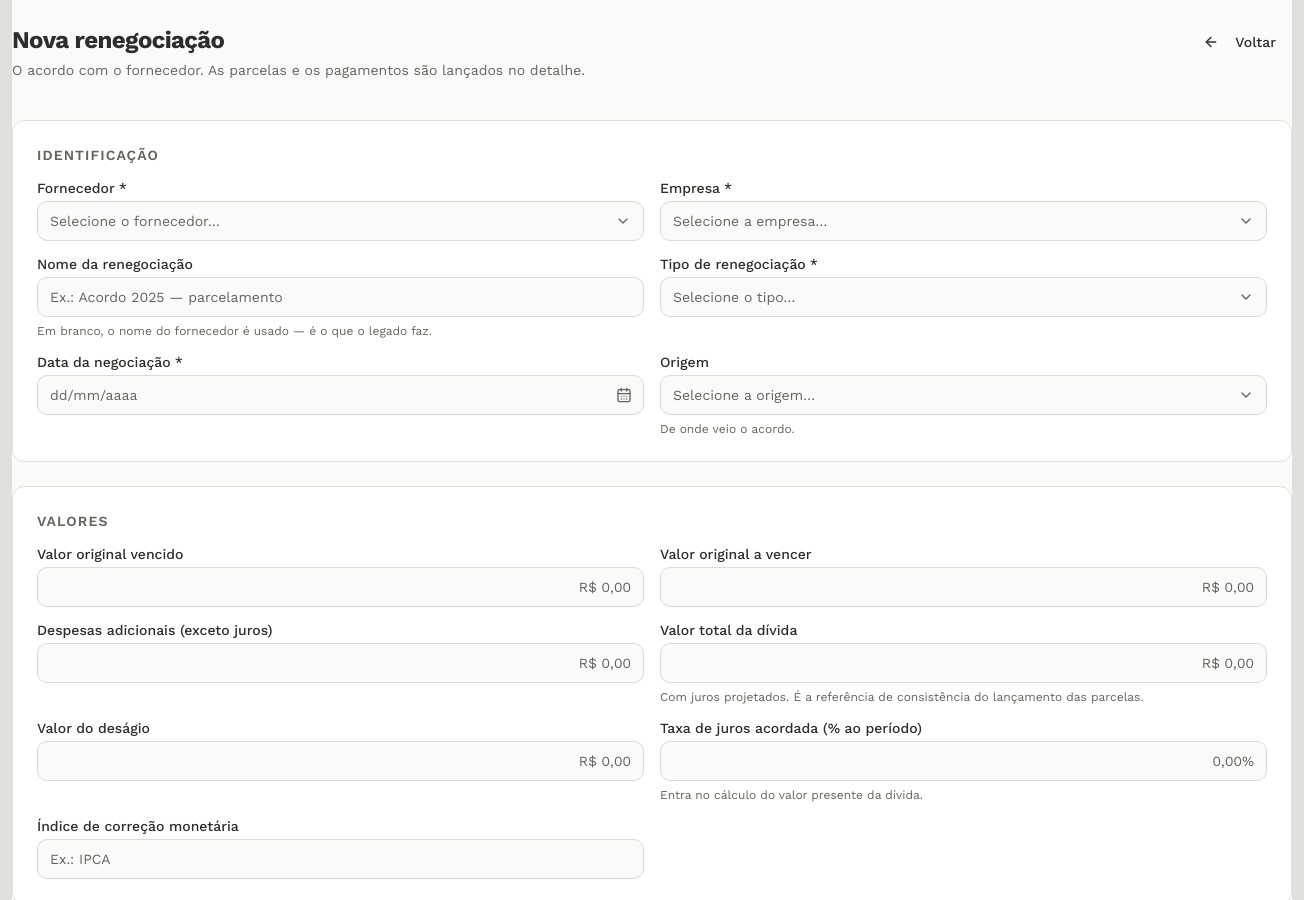
Test: Nova renegociação — o fornecedor já usado não é oferecido › marca como indisponível o fornecedor que já tem renegociação no projeto
Expected: the heading "Nova renegociação" is shown, x1=12 y1=26 x2=224 y2=54
Click the dropdown labelled "Selecione o fornecedor…".
click(135, 221)  # box x1=37 y1=201 x2=644 y2=241
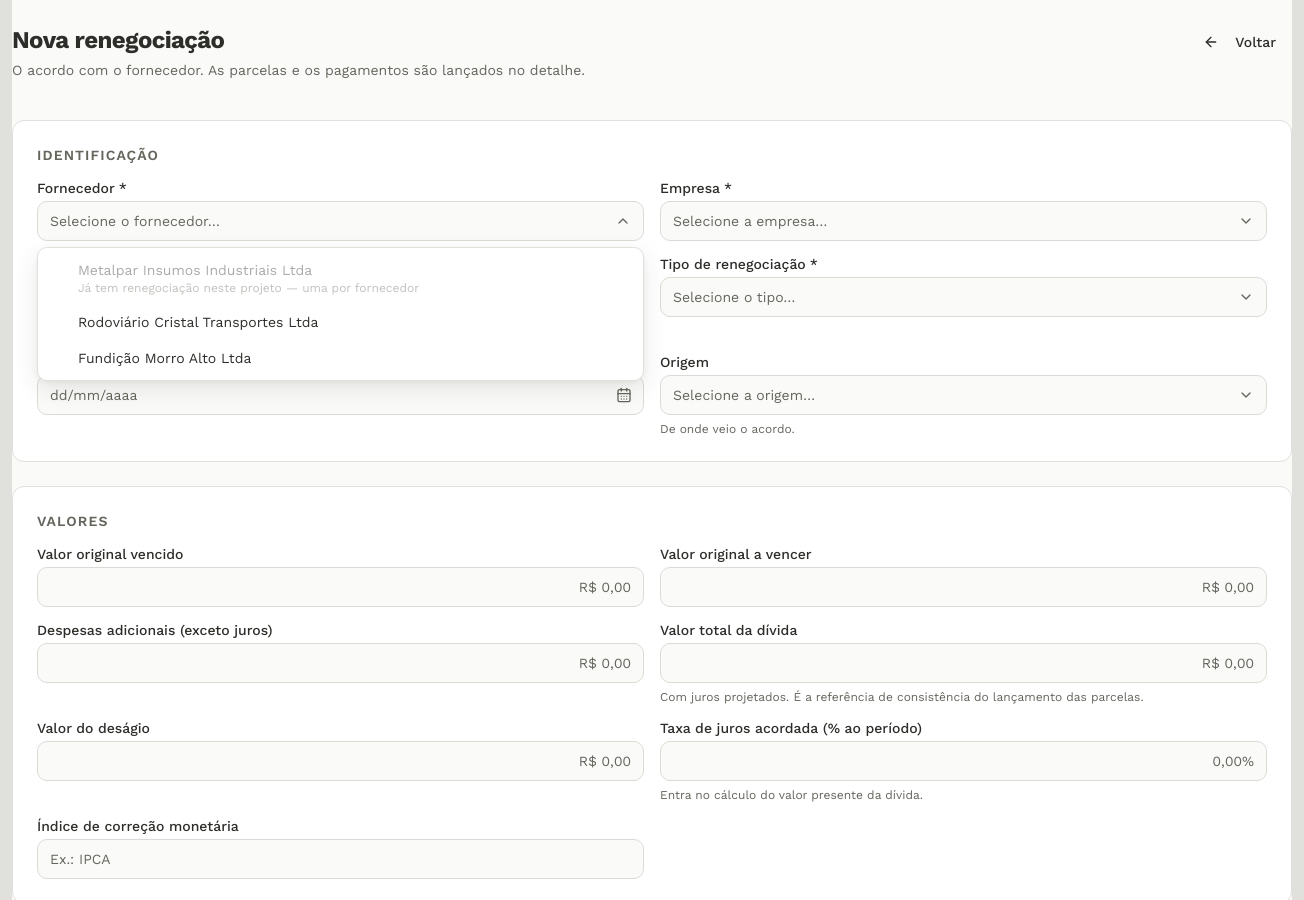
Expected: the option "Metalpar" is disabled, x1=42 y1=252 x2=639 y2=304
Expected: the option "Fundição Morro Alto Ltda" is enabled, x1=42 y1=340 x2=639 y2=376
Expected: the text "Já tem renegociação neste projeto — uma por fornecedor" is shown, x1=78 y1=280 x2=419 y2=296
